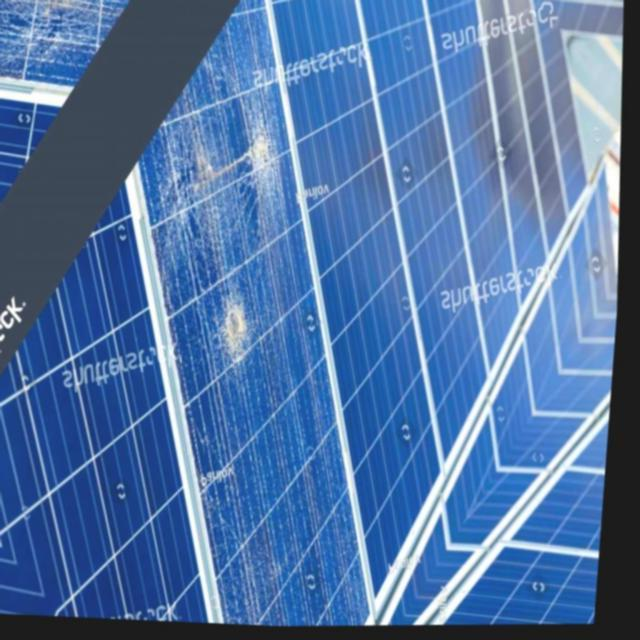cracked: (149, 1, 367, 626), (0, 0, 129, 86)
